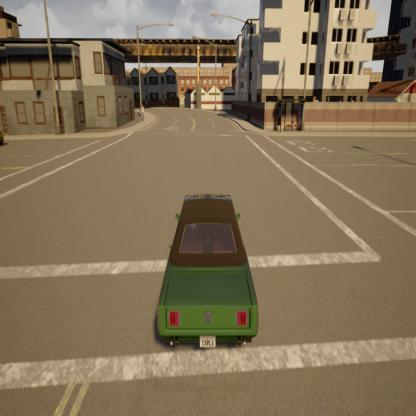Cars: (150, 184, 266, 356)
Pedestrian: (140, 97, 148, 122)
